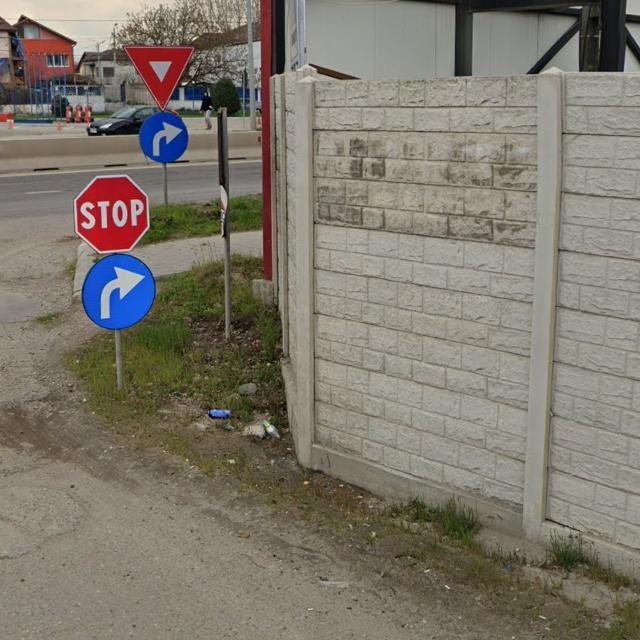prio_give_way: (123, 45, 195, 111)
prio_stop: (75, 175, 154, 254)
